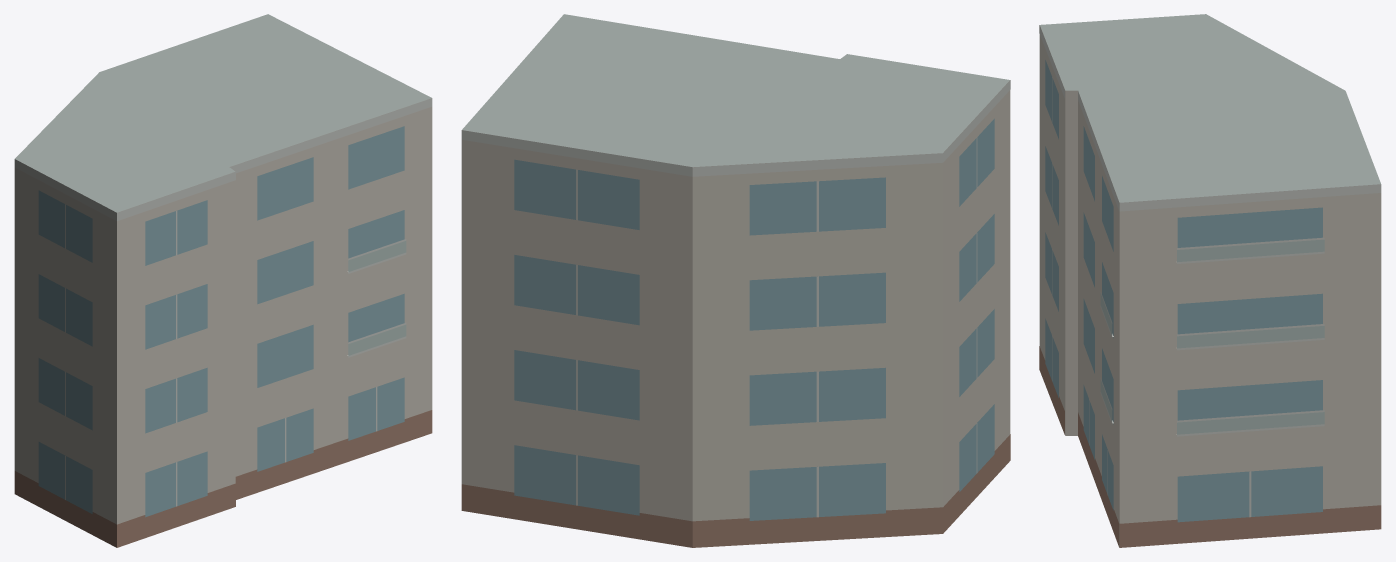
The model's file is survey-upis-32987238.glb.
3 views of the same model, side by side, from view 1: azimuth 30°, elevation 25°; view 2: azimuth 150°, elevation 25°; view 3: azimuth 270°, elevation 25° (orthographic). The views are drawn at different scales.
Parts seen in each view (by area): view 1: survey-upis-32987238.tmp; view 2: survey-upis-32987238.tmp; view 3: survey-upis-32987238.tmp.
Boxes of the visible parts, box(x1,y1,x2,y2) form: survey-upis-32987238.tmp: box(14, 14, 432, 547); survey-upis-32987238.tmp: box(461, 14, 1010, 547); survey-upis-32987238.tmp: box(1039, 14, 1381, 547).
Bounding box in the file's own units: 11.27 × 9.6 × 8.62.
